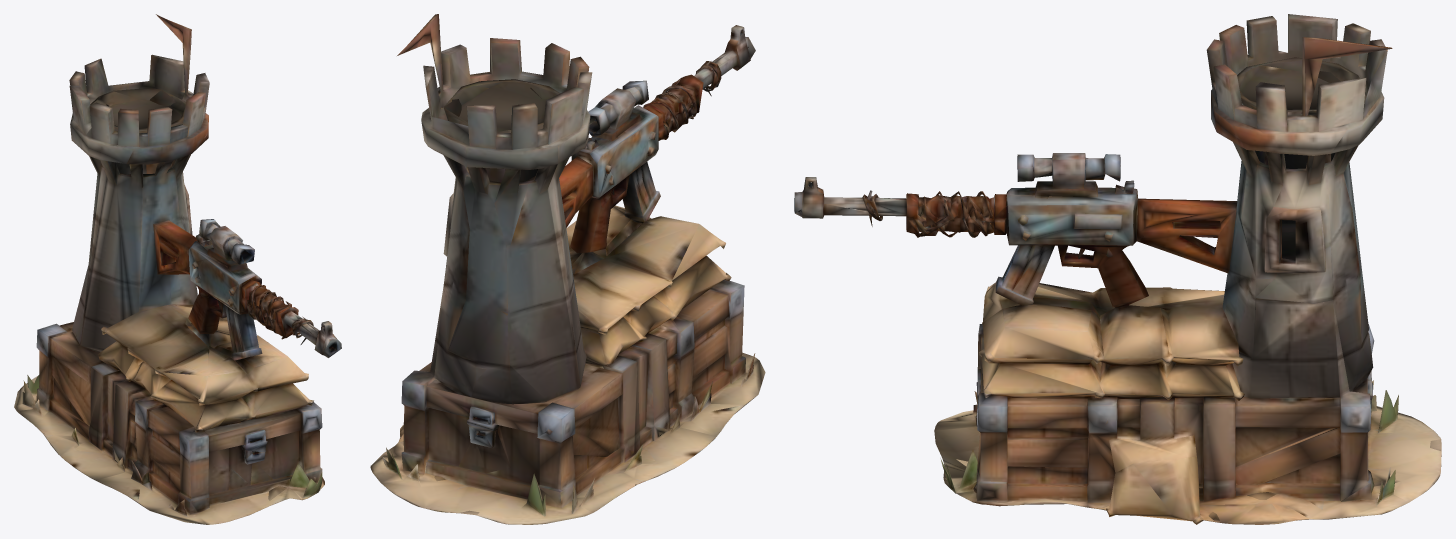
File: jiqiangpao-1.glb
3 views of the same model, side by side, from view 1: azimuth 30°, elevation 25°; view 2: azimuth 150°, elevation 25°; view 3: azimuth 270°, elevation 25° (orthographic). The views are drawn at different scales.
Visible parts, largest first — view 1: node_0; view 2: node_0; view 3: node_0.
Part boxes in pixels (bbox=[...]): node_0: bbox=[14, 14, 341, 524]; node_0: bbox=[370, 14, 765, 524]; node_0: bbox=[794, 14, 1441, 524].
Bounding box in the file's own units: 0.4529 × 0.7533 × 0.9478.
1 material, 1 textured.
